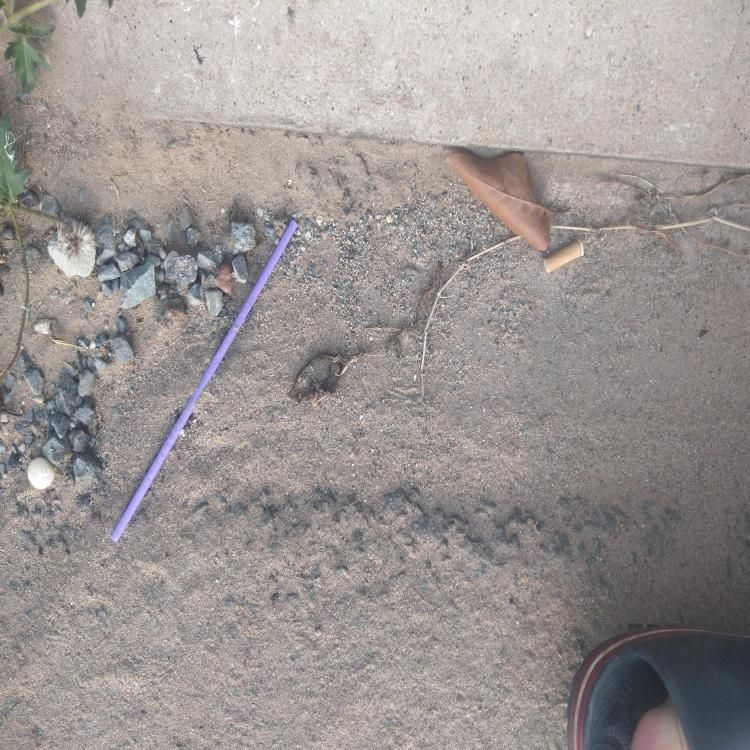Cigarette: (543, 239, 584, 275)
Plastic straw: (111, 221, 298, 542)
